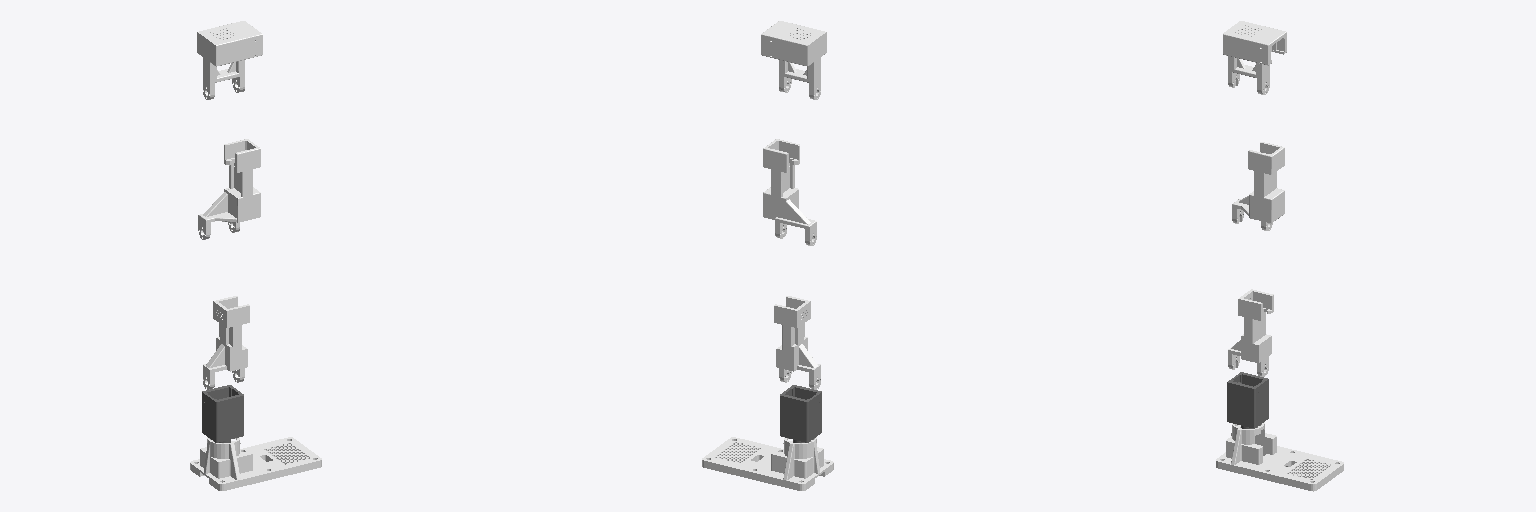
robot.urdf — gello_flexiv_urdf_v1:
<?xml version="1.0" encoding="utf-8"?>
<!-- This URDF was automatically created by SolidWorks to URDF Exporter! Originally created by Stephen Brawner (brawner@gmail.com) 
     Commit Version: 1.6.0-4-g7f85cfe  Build Version: 1.6.7995.38578
     For more information, please see http://wiki.ros.org/sw_urdf_exporter -->
<robot
  name="gello_flexiv_urdf_v1">
   <link name="world" />
   <joint name="joint0" type="fixed">
    <origin rpy="0 0 0" xyz="0 0 0" />
    <parent link="world" />
    <child link="base_link" />
  </joint>
  <link
    name="base_link">
    <inertial>
      <origin
        xyz="0.0359314244197203 -0.108168163884002 -0.521217783026658"
        rpy="0 0 0" />
      <mass
        value="0.140781229185535" />
      <inertia
        ixx="9.57436302937678E-05"
        ixy="-1.03738838317992E-06"
        ixz="3.48564950250387E-05"
        iyy="0.000276934775246851"
        iyz="1.32094089368797E-07"
        izz="0.000328420600123338" />
    </inertial>
    <visual>
      <origin
        xyz="0 0 0"
        rpy="0 0 0" />
      <geometry>
        <mesh
          filename="package://gello_flexiv_urdf_v1/meshes/base_link.STL" />
      </geometry>
      <material
        name="">
        <color
          rgba="1 1 1 1" />
      </material>
    </visual>
    <collision>
      <origin
        xyz="0 0 0"
        rpy="0 0 0" />
      <geometry>
        <mesh
          filename="package://gello_flexiv_urdf_v1/meshes/base_link.STL" />
      </geometry>
    </collision>
  </link>
  <link
    name="link1">
    <inertial>
      <origin
        xyz="-4.21087792010482E-06 0.0352132800172582 -4.13863388004643E-13"
        rpy="0 0 0" />
      <mass
        value="0.0621984978756423" />
      <inertia
        ixx="2.62615211798585E-05"
        ixy="-5.99006972017282E-08"
        ixz="-2.08797393783405E-13"
        iyy="1.99124702914227E-05"
        iyz="-5.88732697238256E-15"
        izz="2.83859325635614E-05" />
    </inertial>
    <visual>
      <origin
        xyz="0 0 0"
        rpy="0 0 0" />
      <geometry>
        <mesh
          filename="package://gello_flexiv_urdf_v1/meshes/link1.STL" />
      </geometry>
      <material
        name="">
        <color
          rgba="0.501960784313725 0.501960784313725 0.501960784313725 0.25" />
      </material>
    </visual>
    <collision>
      <origin
        xyz="0 0 0"
        rpy="0 0 0" />
      <geometry>
        <mesh
          filename="package://gello_flexiv_urdf_v1/meshes/link1.STL" />
      </geometry>
    </collision>
  </link>
  <joint
    name="joint1"
    type="revolute">
    <origin
      xyz="0.0044059 -0.10829 -0.48722"
      rpy="1.5708 0 0" />
    <parent
      link="base_link" />
    <child
      link="link1" />
    <axis
      xyz="0 1 0" />
    <limit
      lower="-1.57"
      upper="1.57"
      effort="500"
      velocity="10" />
  </joint>
  <link
    name="link2">
    <inertial>
      <origin
        xyz="-0.0003472536027362 0.0493318151135988 0.0173567708489257"
        rpy="0 0 0" />
      <mass
        value="0.0634542150680963" />
      <inertia
        ixx="5.32681967201861E-05"
        ixy="-1.06531856297077E-08"
        ixz="4.32227402949667E-09"
        iyy="1.39386634834845E-05"
        iyz="2.2828894286374E-06"
        izz="5.14095077712621E-05" />
    </inertial>
    <visual>
      <origin
        xyz="0 0 0"
        rpy="0 0 0" />
      <geometry>
        <mesh
          filename="package://gello_flexiv_urdf_v1/meshes/link2.STL" />
      </geometry>
      <material
        name="">
        <color
          rgba="1 1 1 1" />
      </material>
    </visual>
    <collision>
      <origin
        xyz="0 0 0"
        rpy="0 0 0" />
      <geometry>
        <mesh
          filename="package://gello_flexiv_urdf_v1/meshes/link2.STL" />
      </geometry>
    </collision>
  </link>
  <joint
    name="joint2"
    type="revolute">
    <origin
      xyz="0.0255499999631193 0.0863137010999193 0.00037524429995113"
      rpy="3.14159265358979 -1.57079623022433 3.14159265358979" />
    <parent
      link="link1" />
    <child
      link="link2" />
    <axis
      xyz="0 0 -1" />
    <limit
      lower="-1.57"
      upper="1.57"
      effort="500"
      velocity="10" />
  </joint>
  <link
    name="link3">
    <inertial>
      <origin
        xyz="0.0110147556765994 -0.0251055213097105 0.0905380752413542"
        rpy="0 0 0" />
      <mass
        value="0.0814089715061094" />
      <inertia
        ixx="7.72995857245644E-05"
        ixy="6.72258721269139E-06"
        ixz="7.26124075909314E-06"
        iyy="5.52206392754173E-05"
        iyz="-1.93732755388308E-05"
        izz="3.93655693951892E-05" />
    </inertial>
    <visual>
      <origin
        xyz="0 0 0"
        rpy="0 0 0" />
      <geometry>
        <mesh
          filename="package://gello_flexiv_urdf_v1/meshes/link3.STL" />
      </geometry>
      <material
        name="">
        <color
          rgba="1 1 1 0.25" />
      </material>
    </visual>
    <collision>
      <origin
        xyz="0 0 0"
        rpy="0 0 0" />
      <geometry>
        <mesh
          filename="package://gello_flexiv_urdf_v1/meshes/link3.STL" />
      </geometry>
    </collision>
  </link>
  <joint
    name="joint3"
    type="continuous">
    <origin
      xyz="-0.000717150565838778 0.232165887477301 -0.00683035512191994"
      rpy="-1.5707963267949 -0.101541647897608 3.14159265358979" />
    <parent
      link="link2" />
    <child
      link="link3" />
    <axis
      xyz="0 0 -1" />
    <limit
      lower="-1.57"
      upper="1.57"
      effort="500"
      velocity="10" />
  </joint>
  <link
    name="link4">
    <inertial>
      <origin
        xyz="-0.00951429740804757 0.050153248787581 0.0485868077238826"
        rpy="0 0 0" />
      <mass
        value="0.0804811136972273" />
      <inertia
        ixx="8.58820513269053E-05"
        ixy="4.20198162991998E-06"
        ixz="3.31438031897929E-06"
        iyy="2.73658393714511E-05"
        iyz="-1.33984626682826E-05"
        izz="7.70209370048256E-05" />
    </inertial>
    <visual>
      <origin
        xyz="0 0 0"
        rpy="0 0 0" />
      <geometry>
        <mesh
          filename="package://gello_flexiv_urdf_v1/meshes/link4.STL" />
      </geometry>
      <material
        name="">
        <color
          rgba="1 1 1 0.25" />
      </material>
    </visual>
    <collision>
      <origin
        xyz="0 0 0"
        rpy="0 0 0" />
      <geometry>
        <mesh
          filename="package://gello_flexiv_urdf_v1/meshes/link4.STL" />
      </geometry>
    </collision>
  </link>
  <joint
    name="joint4"
    type="continuous">
    <origin
      xyz="0.016367 -0.055457 0.028164"
      rpy="-1.5708 -0.00231 0.10154" />
    <parent
      link="link3" />
    <child
      link="link4" />
    <axis
      xyz="0 0 1" />
    <limit
      lower="-1.57"
      upper="1.57"
      effort="500"
      velocity="10" />
  </joint>
  <link
    name="link5">
    <inertial>
      <origin
        xyz="-0.000359305064668608 0.0105379298988883 0.0604712260326171"
        rpy="0 0 0" />
      <mass
        value="0.0474913987427725" />
      <inertia
        ixx="3.02868102602833E-05"
        ixy="-7.24541664460614E-09"
        ixz="-4.99627657978264E-09"
        iyy="2.84148264822456E-05"
        iyz="1.69599620189933E-06"
        izz="1.33789418295341E-05" />
    </inertial>
    <visual>
      <origin
        xyz="0 0 0"
        rpy="0 0 0" />
      <geometry>
        <mesh
          filename="package://gello_flexiv_urdf_v1/meshes/link5.STL" />
      </geometry>
      <material
        name="">
        <color
          rgba="1 1 1 0.25" />
      </material>
    </visual>
    <collision>
      <origin
        xyz="0 0 0"
        rpy="0 0 0" />
      <geometry>
        <mesh
          filename="package://gello_flexiv_urdf_v1/meshes/link5.STL" />
      </geometry>
    </collision>
  </link>
  <joint
    name="joint5"
    type="continuous">
    <origin
      xyz="-0.01086 0.085925 0.032403"
      rpy="-1.5708 0 0.00231" />
    <parent
      link="link4" />
    <child
      link="link5" />
    <axis
      xyz="0 0 1" />
    <limit
      lower="-1.57"
      upper="1.57"
      effort="500"
      velocity="10" />
  </joint>
  <link
    name="link6">
    <inertial>
      <origin
        xyz="-0.00593553356315217 0.0548375259281318 0.127547629959975"
        rpy="0 0 0" />
      <mass
        value="0.101556527676673" />
      <inertia
        ixx="6.92163825878117E-05"
        ixy="1.69198658003818E-06"
        ixz="-2.22230680189455E-07"
        iyy="5.26180630079918E-05"
        iyz="3.31757389156783E-06"
        izz="5.25562821930294E-05" />
    </inertial>
    <visual>
      <origin
        xyz="0 0 0"
        rpy="0 0 0" />
      <geometry>
        <mesh
          filename="package://gello_flexiv_urdf_v1/meshes/link6.STL" />
      </geometry>
      <material
        name="">
        <color
          rgba="1 1 1 1" />
      </material>
    </visual>
    <collision>
      <origin
        xyz="0 0 0"
        rpy="0 0 0" />
      <geometry>
        <mesh
          filename="package://gello_flexiv_urdf_v1/meshes/link6.STL" />
      </geometry>
    </collision>
  </link>
  <joint
    name="joint6"
    type="continuous">
    <origin
      xyz="-0.00071715 -0.1243 0.11271"
      rpy="1.5708 0.10154 -3.1416" />
    <parent
      link="link5" />
    <child
      link="link6" />
    <axis
      xyz="0 0 -1" />
    <limit
      lower="-1.57"
      upper="1.57"
      effort="500"
      velocity="10" />
  </joint>
  <link
    name="link7">
    <inertial>
      <origin
        xyz="0.0367531932113658 0.00126872969572463 0.0815484226026311"
        rpy="0 0 0" />
      <mass
        value="0.0968831090631678" />
      <inertia
        ixx="3.22005389895365E-05"
        ixy="1.81571702408365E-05"
        ixz="-1.76161283626439E-05"
        iyy="0.000173175408165016"
        iyz="2.88404944118258E-06"
        izz="0.000181477835025478" />
    </inertial>
    <visual>
      <origin
        xyz="0 0 0"
        rpy="0 0 0" />
      <geometry>
        <mesh
          filename="package://gello_flexiv_urdf_v1/meshes/link7.STL" />
      </geometry>
      <material
        name="">
        <color
          rgba="1 1 1 0.25" />
      </material>
    </visual>
    <collision>
      <origin
        xyz="0 0 0"
        rpy="0 0 0" />
      <geometry>
        <mesh
          filename="package://gello_flexiv_urdf_v1/meshes/link7.STL" />
      </geometry>
    </collision>
  </link>
  <joint
    name="joint7"
    type="continuous">
    <origin
      xyz="0.0015572 0.060476 0.12001"
      rpy="-3.1416 0 -1.4693" />
    <parent
      link="link6" />
    <child
      link="link7" />
    <axis
      xyz="0 -1 0" />
    <limit
      lower="-1.57"
      upper="1.57"
      effort="500"
      velocity="10" />
  </joint>
</robot>

--- Facts derived from the render (not from the file) ---
The picture shows the robot from 3 angles, left to right: view 1: azimuth 30°, elevation 25°; view 2: azimuth 150°, elevation 25°; view 3: azimuth 330°, elevation 25°; orthographic projection.
Model gello_flexiv_urdf_v1 with 9 links and 8 joints (2 revolute, 5 continuous, 1 fixed), rooted at world, posed every joint at zero.
Visible links, largest first — view 1: base_link, link4, link6, link2, link1; view 2: base_link, link6, link4, link2, link1; view 3: base_link, link6, link4, link2, link1.
Link boxes in pixels (x1,y1,x2,y2): base_link: [190, 437, 321, 490]; link4: [198, 139, 260, 239]; link6: [197, 21, 262, 99]; link2: [203, 296, 249, 389]; link1: [202, 385, 243, 442]; base_link: [702, 437, 833, 490]; link6: [761, 21, 826, 99]; link4: [763, 139, 816, 245]; link2: [774, 296, 820, 389]; link1: [780, 385, 821, 442]; base_link: [1216, 422, 1343, 491]; link6: [1223, 21, 1286, 94]; link4: [1232, 142, 1284, 230]; link2: [1228, 289, 1273, 376]; link1: [1227, 372, 1268, 428].
Size in the robot's own frame: 0.15 by 0.08 by 0.6133 metres.
5 mesh visuals loaded from 8 distinct referenced files (5 binary STL); not drawn: 3 (reference not matched to a file when rendering).
